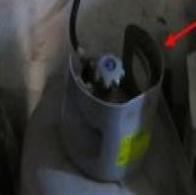cylinder: (1, 1, 196, 195)
